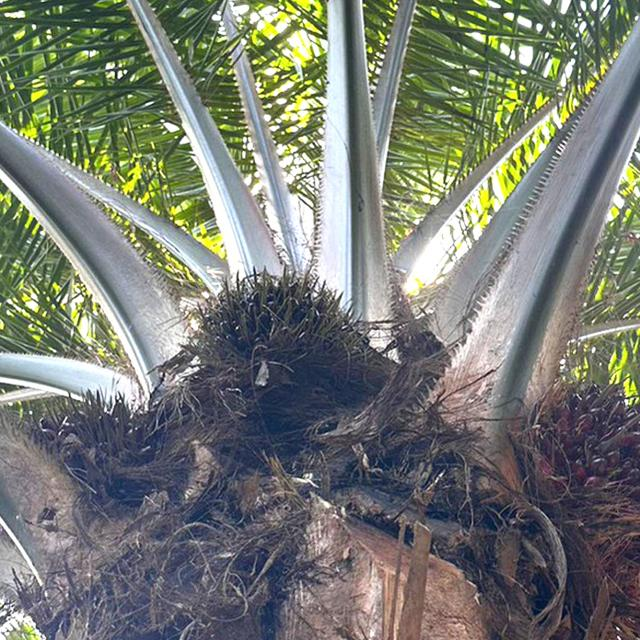unripe: (187, 258, 378, 416)
